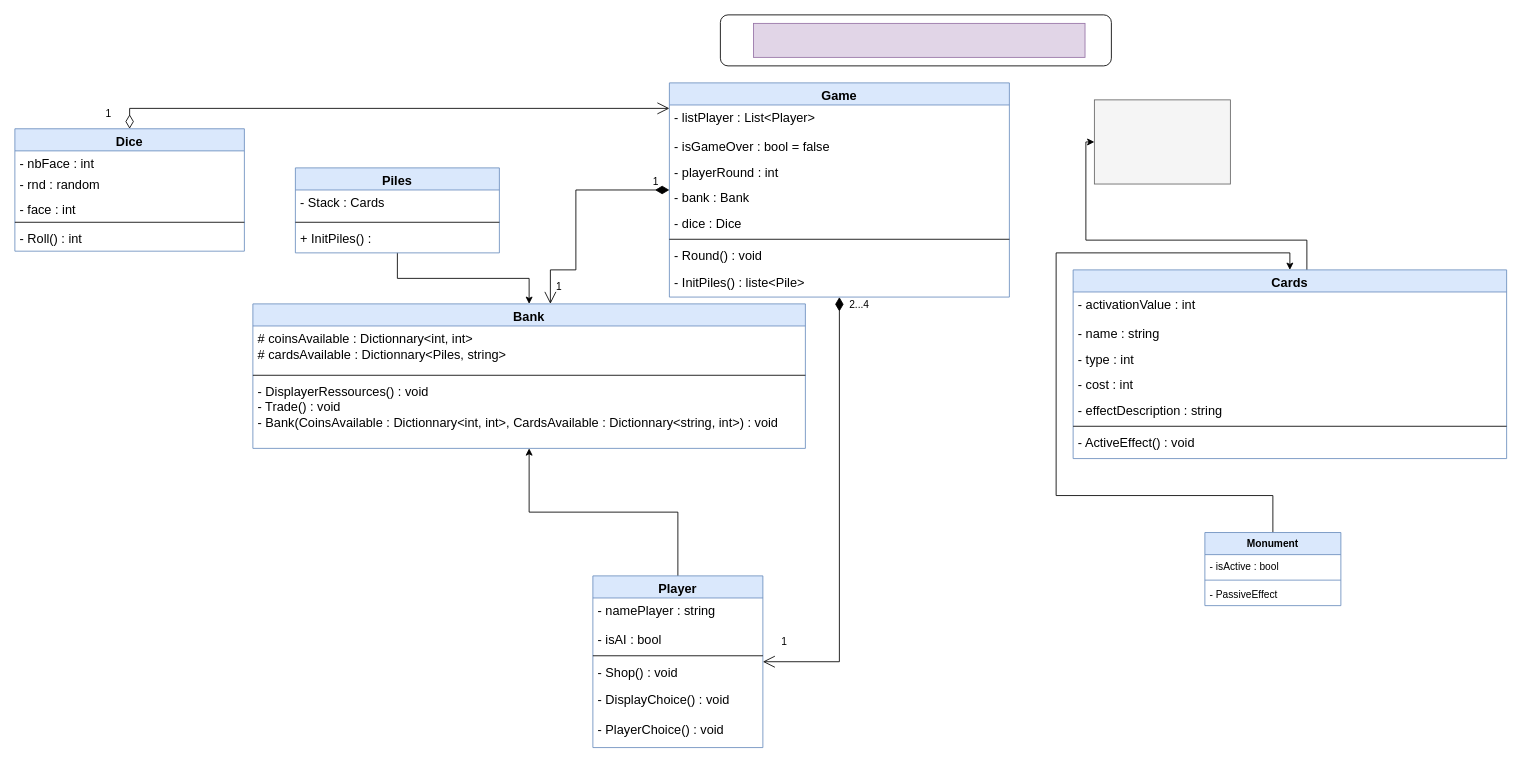
This 1522x765 diagram has some shape labels left out. Here are the shapes that lost their labels. From the top down, the centre of each, then its label:
At point 919,40: "Diagramme de Classe : jeu du Miniville".
At point 1162,141: "Enum Color Blue = 1 Green = 2 Red = 3 Purple = 4".
